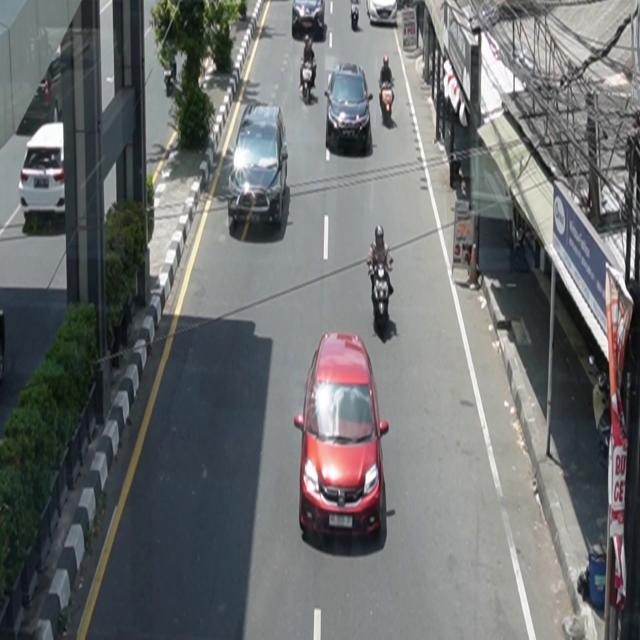car: (295, 332, 390, 543), (228, 102, 289, 229), (20, 123, 67, 222), (325, 63, 374, 153), (293, 1, 327, 33), (367, 1, 399, 26)
